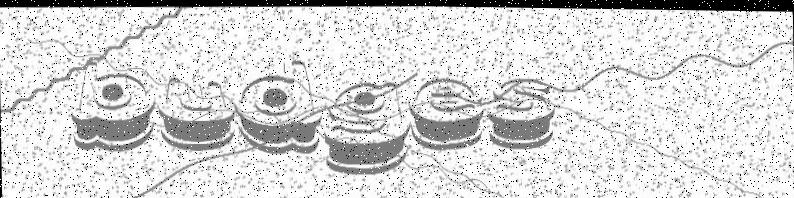b: (70, 59, 157, 152)
d: (234, 56, 324, 157)
e: (407, 75, 484, 149)
g: (323, 78, 412, 177)
s: (486, 75, 557, 151)
u: (157, 75, 236, 152)
